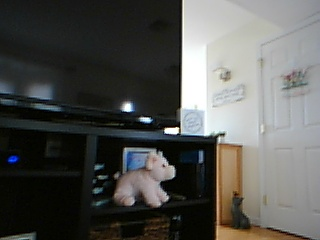piggy: (111, 150, 177, 210)
